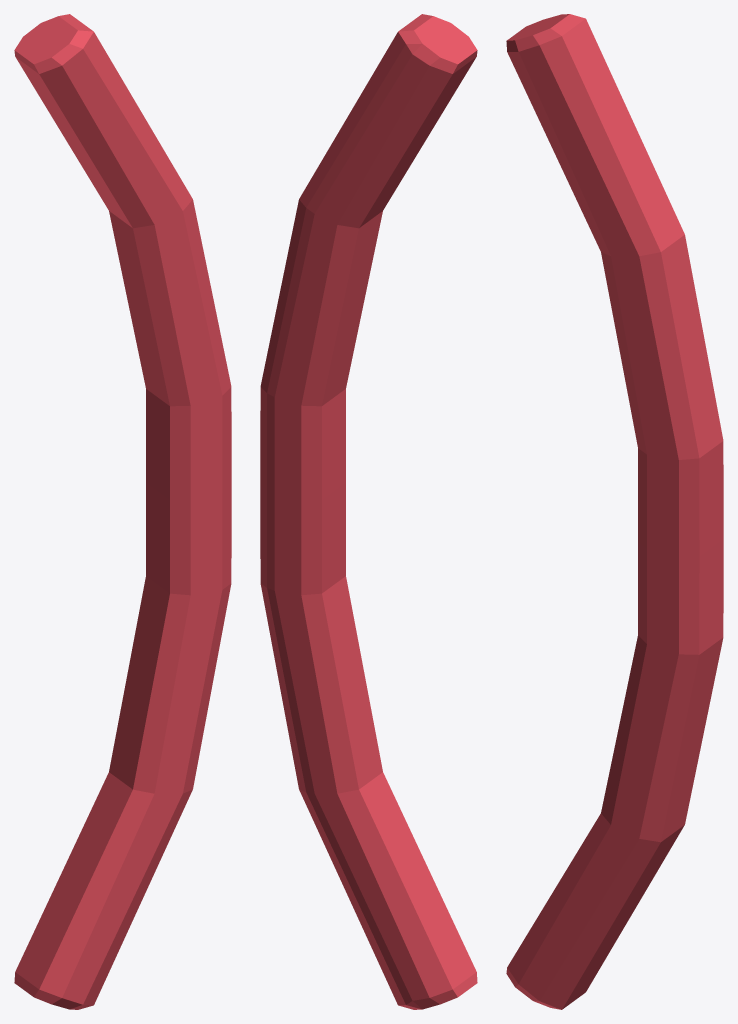
File: Bow_01.fbx
3 views of the same model, side by side, from view 1: azimuth 30°, elevation 25°; view 2: azimuth 150°, elevation 25°; view 3: azimuth 330°, elevation 25° (orthographic).
Visible parts, largest first — view 1: Bow_01; view 2: Bow_01; view 3: Bow_01.
Part boxes in pixels (x1,y1,x2,y2): Bow_01: (14, 14, 231, 1009); Bow_01: (260, 14, 477, 1009); Bow_01: (506, 14, 723, 1009).
Bounding box in the file's own units: 1.52 × 7.28 × 0.479.
